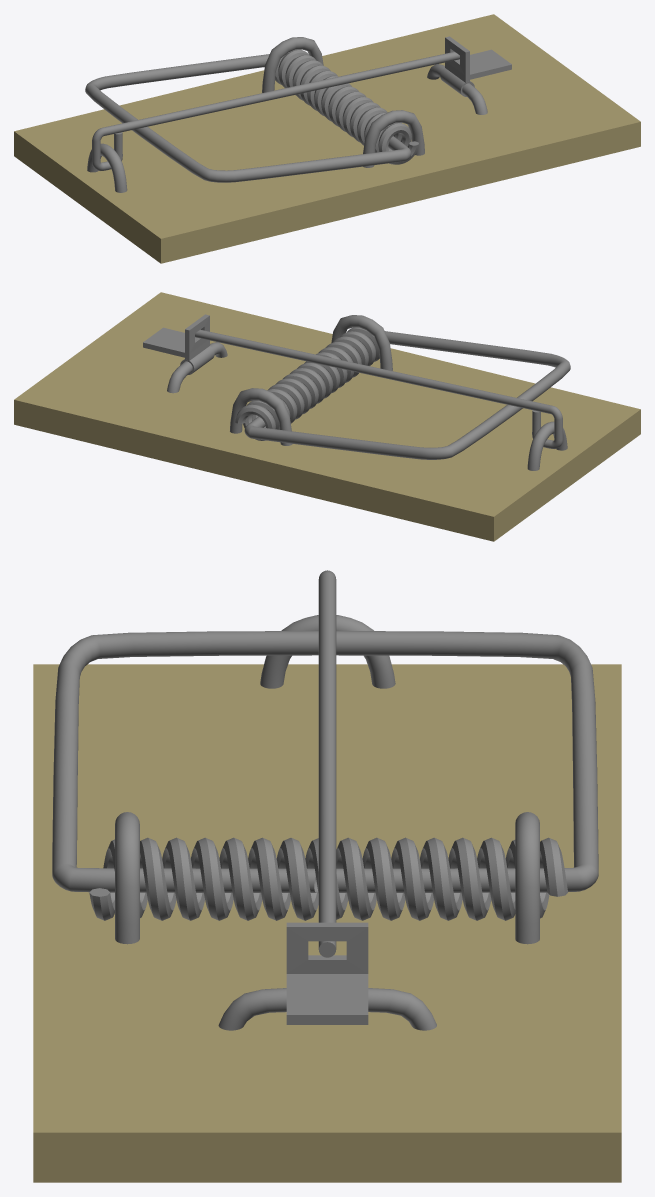
The model's file is Unactivated_updated.fbx.
3 renders of one model, top to bottom at view 1: azimuth 30°, elevation 25°; view 2: azimuth 150°, elevation 25°; view 3: azimuth 270°, elevation 25°, orthographic. The views are drawn at different scales.
Visible parts, largest first — view 1: pCube1, pTorus4, pHelix1, pCylinder1, pCube3, pTorus1, pTorus2, pTorus3, pTorus5; view 2: pCube1, pTorus4, pHelix1, pCylinder1, pCube3, pTorus2, pTorus1, pTorus3, pTorus5; view 3: pCube1, pTorus4, pHelix1, pCube3, pCylinder1, pTorus5, pTorus2, pTorus1, pTorus3.
Part boxes in pixels (x1,y1,x2,y2): pCube1: [14, 14, 640, 263]; pTorus4: [85, 54, 411, 182]; pHelix1: [275, 49, 418, 164]; pCylinder1: [92, 51, 459, 170]; pCube3: [440, 36, 511, 96]; pTorus1: [363, 110, 424, 167]; pTorus2: [262, 37, 323, 92]; pTorus3: [87, 143, 127, 192]; pTorus5: [427, 64, 487, 114]; pCube1: [14, 292, 640, 541]; pTorus4: [244, 331, 570, 459]; pHelix1: [235, 327, 379, 440]; pCylinder1: [195, 329, 562, 448]; pCube3: [143, 314, 214, 374]; pTorus2: [230, 388, 292, 445]; pTorus1: [331, 315, 392, 370]; pTorus3: [527, 421, 567, 470]; pTorus5: [167, 342, 227, 393]; pCube1: [33, 664, 621, 1182]; pTorus4: [52, 631, 598, 892]; pHelix1: [89, 837, 567, 920]; pCube3: [286, 922, 368, 1024]; pCylinder1: [318, 570, 336, 957]; pTorus5: [218, 988, 436, 1030]; pTorus2: [515, 812, 539, 944]; pTorus1: [115, 812, 139, 944]; pTorus3: [260, 615, 395, 688].
Size of the model in its own units: 3.44 by 0.5362 by 1.83.
